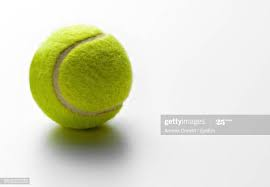tennis_ball: (28, 22, 133, 130)
